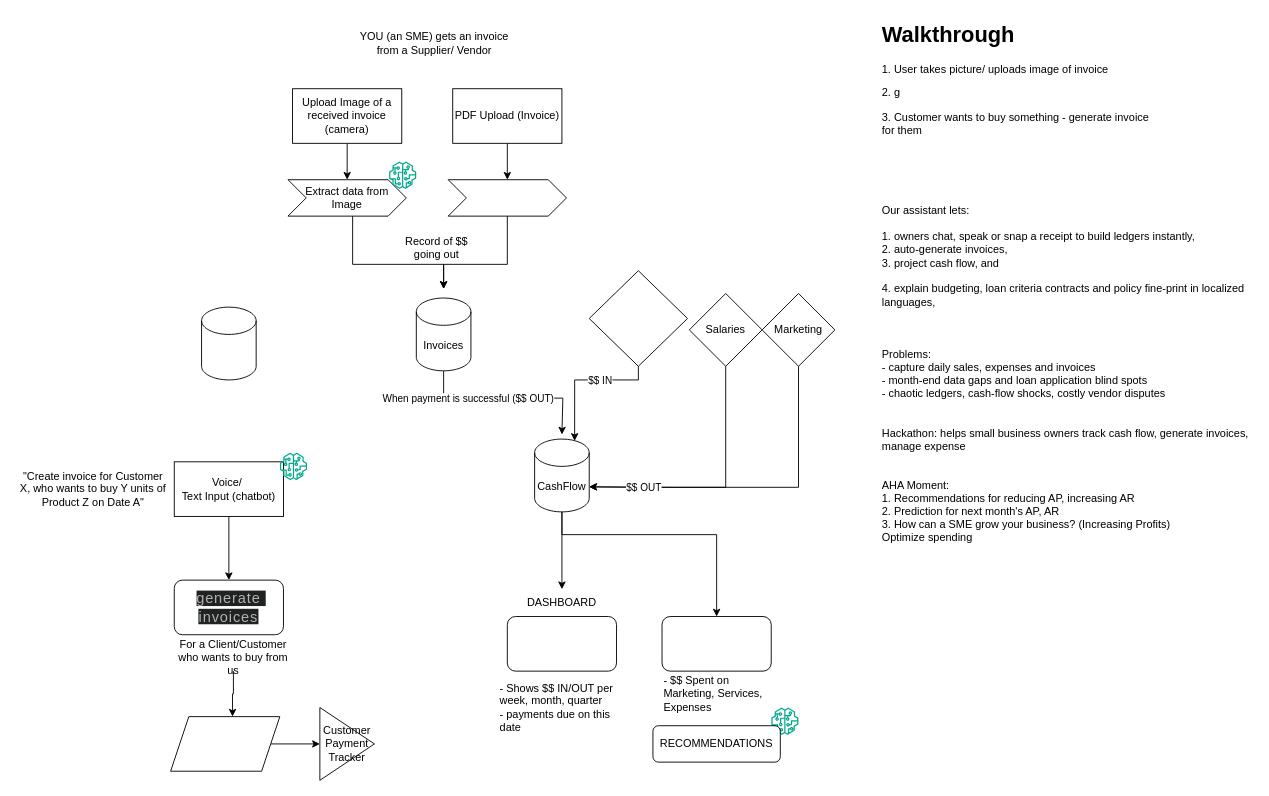
This 1269x796 diagram has some shape labels left out. The centre of each missing label's shape, as x and y in pixels:
Extract information from PDF: [506,197]
HTML 2 PDF - Share with Customer: [225,743]
manage expenses: [716,643]
SALES Revenue: [638,318]
SMEs User: [228,343]
track cash flow: [561,643]
